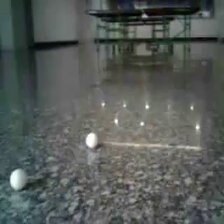w: (10, 170, 27, 190), (85, 133, 97, 148)
